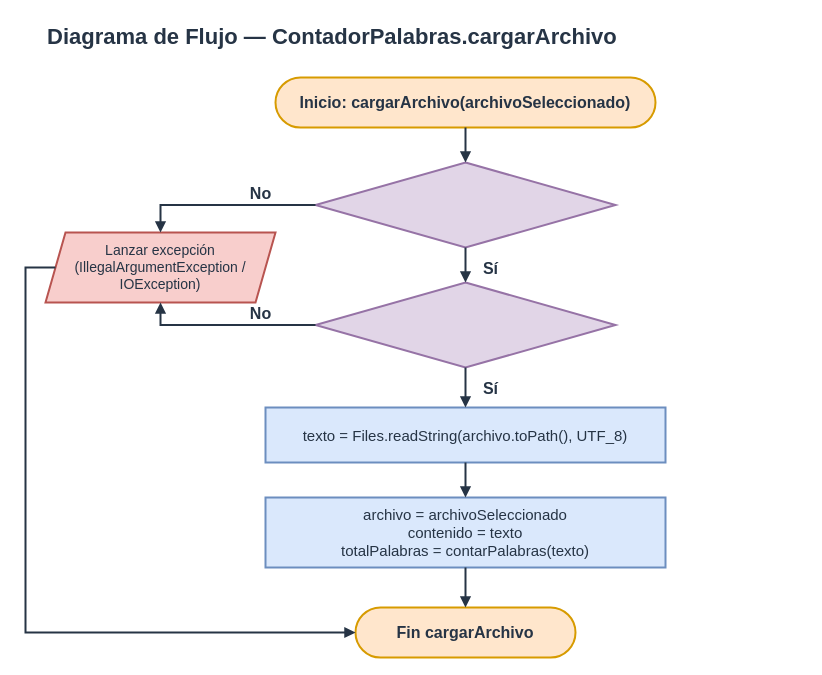
Some shapes in this 822 by 675 pixel diagram are drawn without their labels. The centre of each missing label's shape, as x and y in pixels:
¿archivo != null y nombre termina en ".txt"?: the point at 465,204
¿archivo.exists() y archivo.isFile()?: the point at 465,324
